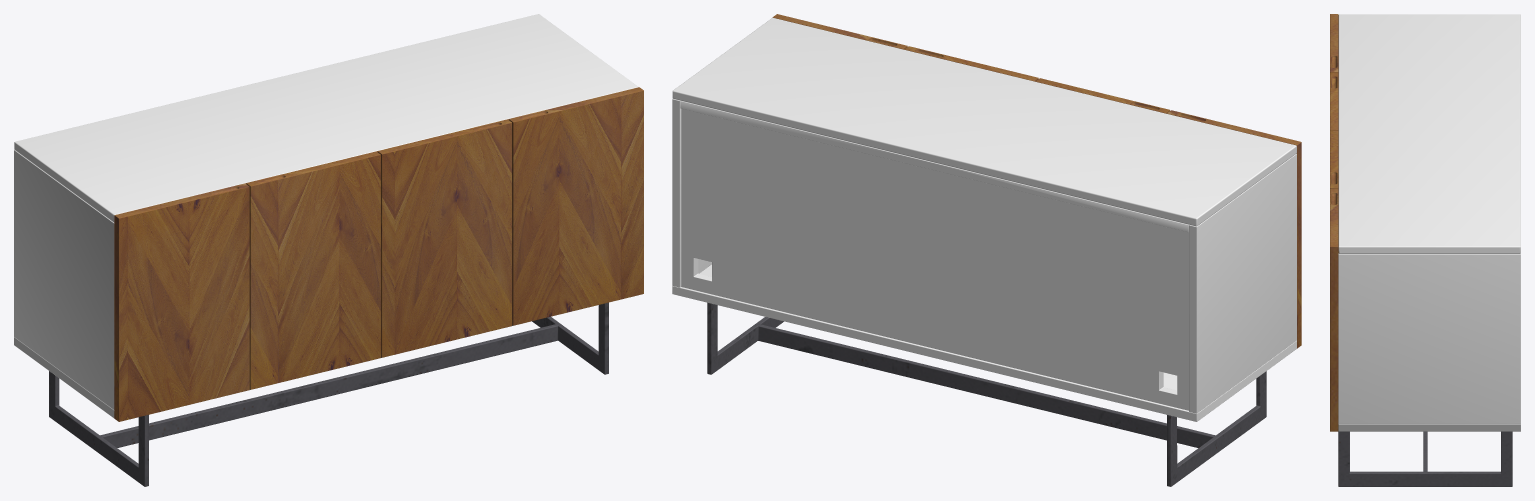
Rendered from reclaimed_tv_stand__furniture.glb.
The picture shows the model from 3 angles, left to right: view 1: azimuth 30°, elevation 25°; view 2: azimuth 150°, elevation 25°; view 3: azimuth 270°, elevation 25°; orthographic projection. The views are drawn at different scales.
Visible parts, largest first — view 1: Stand_01:AssemblyMT_CB2_Table_suspendFBXASC032mediaFBXASC032; view 2: Stand_01:AssemblyMT_CB2_Table_suspendFBXASC032mediaFBXASC032; view 3: Stand_01:AssemblyMT_CB2_Table_suspendFBXASC032mediaFBXASC032.
Part boxes in pixels (x1,y1,x2,y2): Stand_01:AssemblyMT_CB2_Table_suspendFBXASC032mediaFBXASC032: (14, 14, 643, 486); Stand_01:AssemblyMT_CB2_Table_suspendFBXASC032mediaFBXASC032: (672, 14, 1301, 486); Stand_01:AssemblyMT_CB2_Table_suspendFBXASC032mediaFBXASC032: (1330, 14, 1520, 486).
Bounding box in the file's own units: 1.53 × 0.7791 × 0.5306.
1 material, 1 textured.
